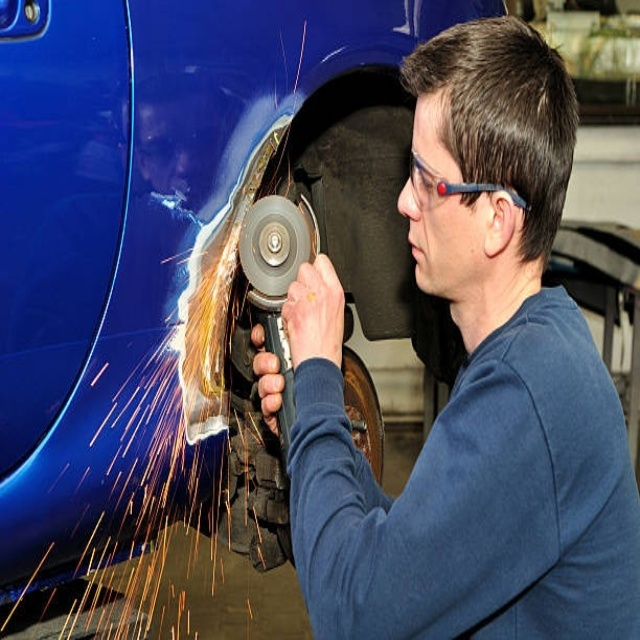Gafas: (410, 148, 529, 214)
Sin_guantes: (275, 252, 347, 395), (249, 318, 289, 435)
Sin_mascara: (403, 214, 449, 291)
